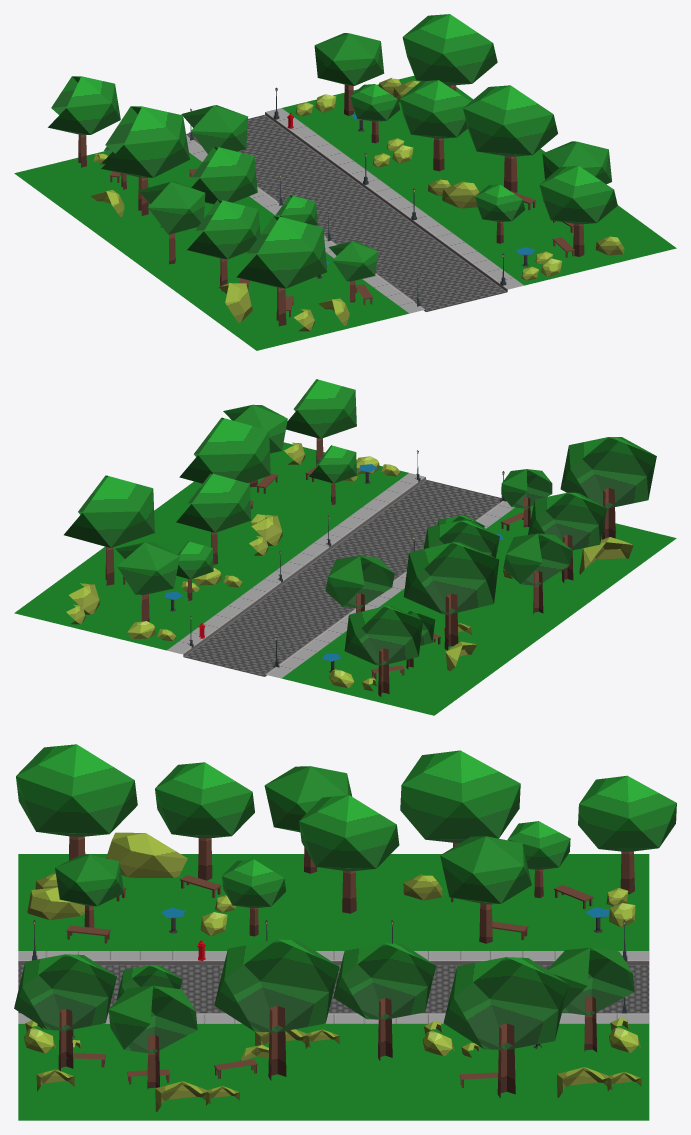
File: trees.glb
The picture shows the model from 3 angles, top to bottom: view 1: azimuth 30°, elevation 25°; view 2: azimuth 150°, elevation 25°; view 3: azimuth 270°, elevation 25°; orthographic projection. The views are drawn at different scales.
Parts seen in each view (by area): view 1: Road, Tree.006, Tree.010, Tree.014, Tree.001, Tree.007, Tree.015, Tree.011, Tree.012, Tree.004, Tree.016, Tree.017 (+8 smaller); view 2: Road, Tree.010, Tree.001, Tree.014, Tree.006, Tree.011, Tree.004, Tree.015, Tree.007, Tree.017, Tree.012, Tree.008 (+9 smaller); view 3: Road, Tree.014, Tree.006, Tree.001, Tree.010, Tree.015, Tree.007, Tree.011, Tree.016, Tree.004, Tree.008, Tree.002 (+14 smaller).
Part boxes in pixels (x1,y1,x2,y2): Road: (14, 76, 676, 350); Tree.006: (463, 85, 557, 192); Tree.010: (101, 106, 189, 215); Tree.014: (402, 14, 497, 91); Tree.001: (236, 216, 327, 326); Tree.007: (539, 165, 617, 256); Tree.015: (399, 80, 470, 171); Tree.011: (48, 76, 120, 167); Tree.012: (314, 33, 384, 115); Tree.004: (187, 200, 260, 291); Tree.016: (191, 146, 257, 204); Tree.017: (138, 181, 205, 264); Road: (14, 442, 676, 715); Tree.010: (403, 542, 499, 650); Tree.001: (560, 437, 656, 539); Tree.014: (64, 475, 154, 585); Tree.006: (179, 417, 270, 483); Tree.011: (344, 606, 422, 696); Tree.004: (528, 492, 606, 582); Tree.015: (176, 473, 251, 564); Tree.007: (286, 379, 356, 466); Tree.017: (503, 533, 572, 614); Tree.012: (115, 542, 179, 622); Tree.008: (325, 556, 394, 612); Road: (18, 854, 649, 1120); Tree.014: (443, 957, 568, 1098); Tree.006: (214, 939, 339, 1080); Tree.001: (16, 744, 137, 860); Tree.010: (400, 750, 520, 847); Tree.015: (333, 943, 436, 1060); Tree.007: (14, 954, 116, 1071); Tree.011: (578, 775, 676, 894); Tree.016: (299, 795, 399, 913); Tree.004: (155, 762, 254, 880); Tree.008: (440, 836, 531, 943); Tree.002: (108, 985, 197, 1089).
Bounding box in the file's own units: 40.22 × 10.05 × 42.01.
Materials: 2 (2 with a texture image).
